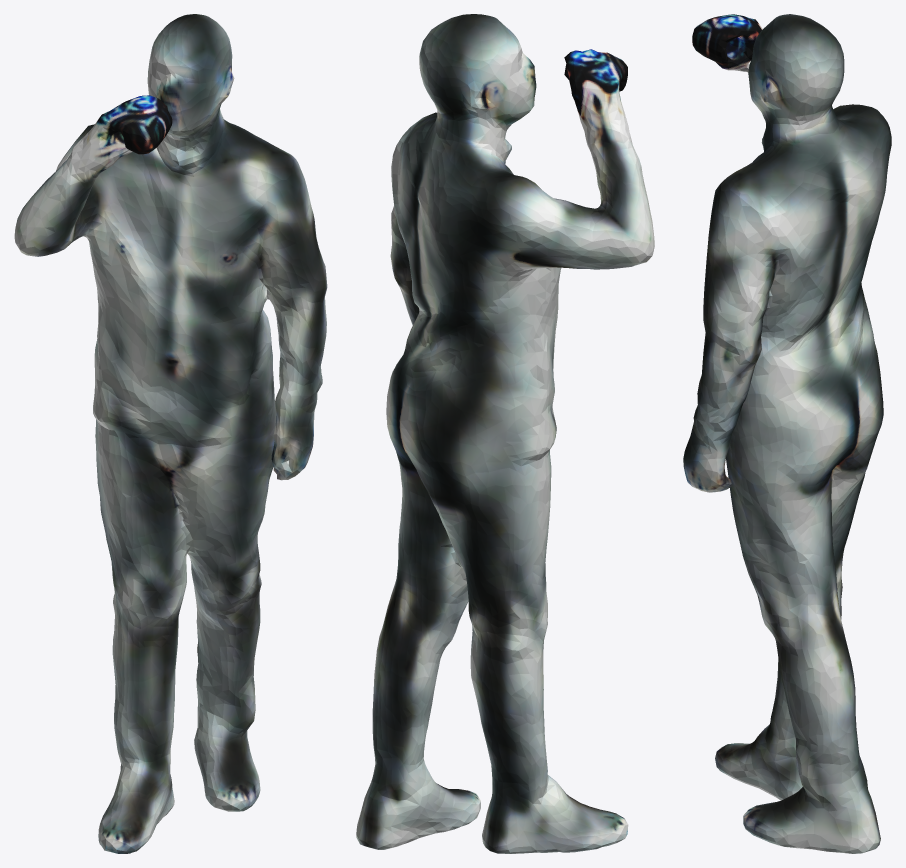
Rendered from man_camera_m1.glb.
3 renders of one model, left to right at view 1: azimuth 30°, elevation 25°; view 2: azimuth 150°, elevation 25°; view 3: azimuth 270°, elevation 25°, orthographic. The views are drawn at different scales.
Visible parts, largest first — view 1: fine_mesh; view 2: fine_mesh; view 3: fine_mesh.
Boxes of the visible parts, x1,y1,x2,y2 form: fine_mesh: (14, 14, 327, 853); fine_mesh: (356, 14, 654, 853); fine_mesh: (683, 14, 891, 853).
Size of the model in its own units: 0.5913 by 1.6 by 0.3782.
Materials: 1 (1 with a texture image).
